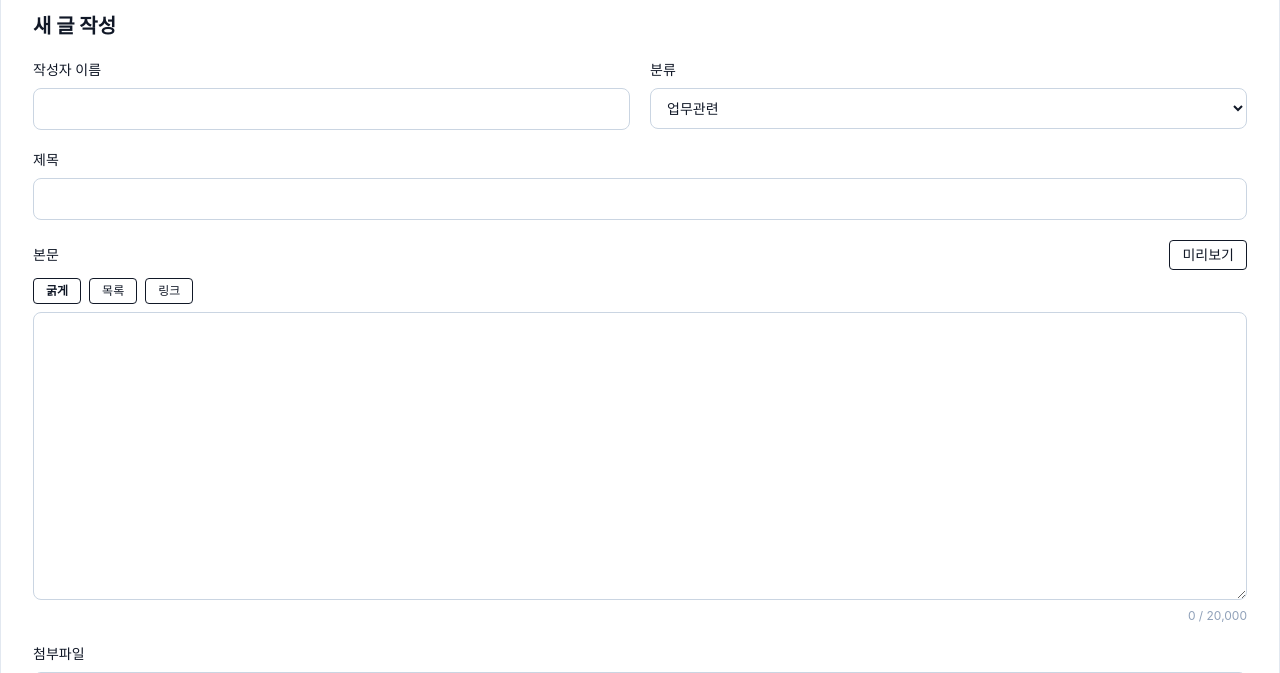
Scenario: board user workflows › saves a private draft with its password and offers a durable management link
Type "담당자" into the field labelled "작성자 이름" at (332,109), box [33, 88, 630, 130]
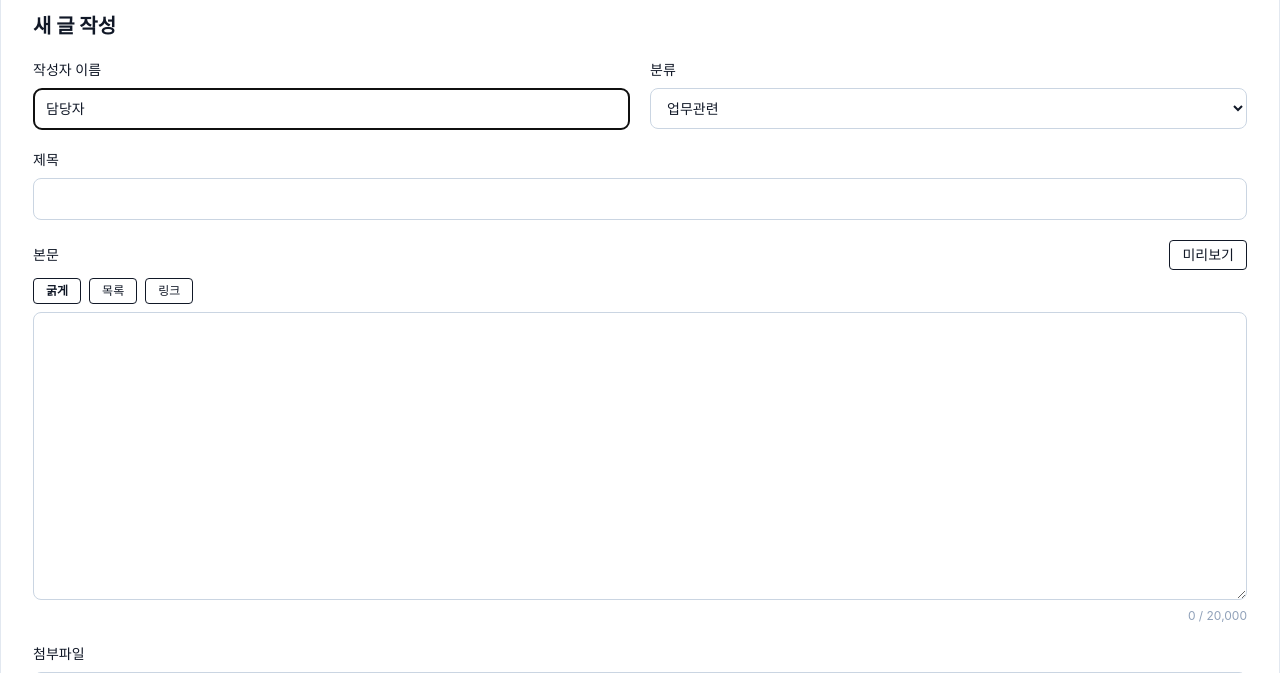
Type "자료 안내" into the field labelled "제목" at (640,199), box [33, 178, 1247, 220]
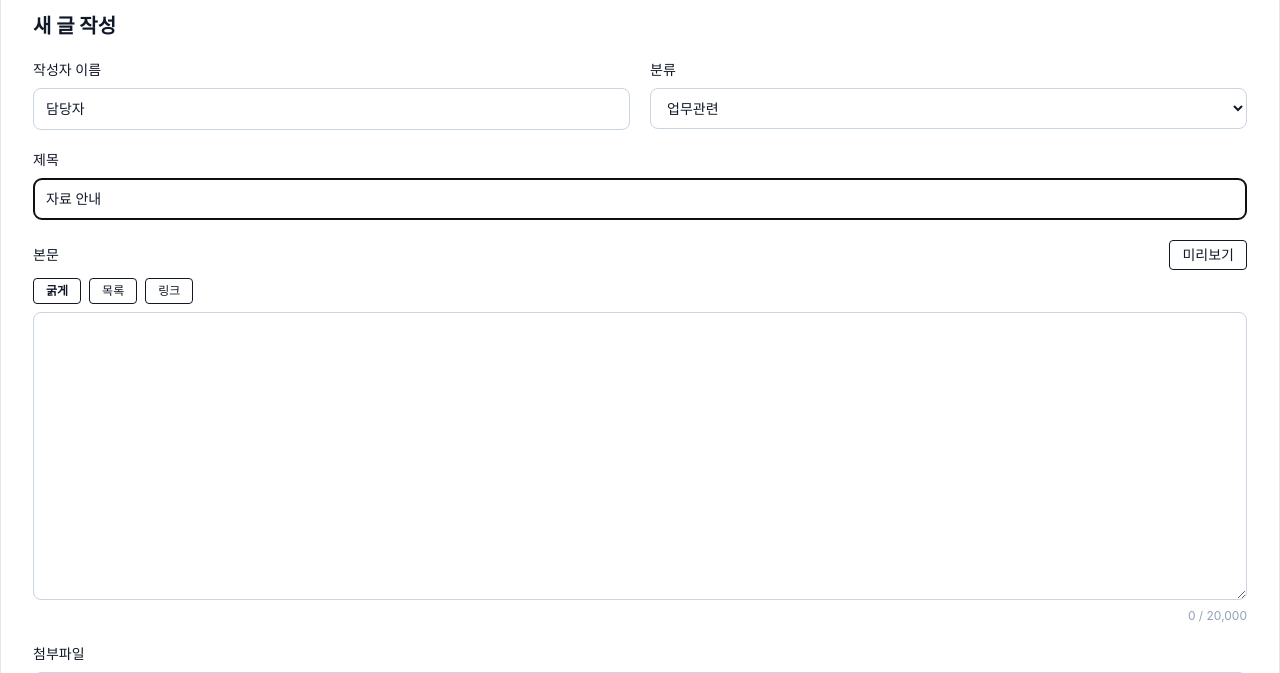
Type "본문 내용" into the text box named "본문" at (640,456), box [33, 312, 1247, 600]
(page scrolled)
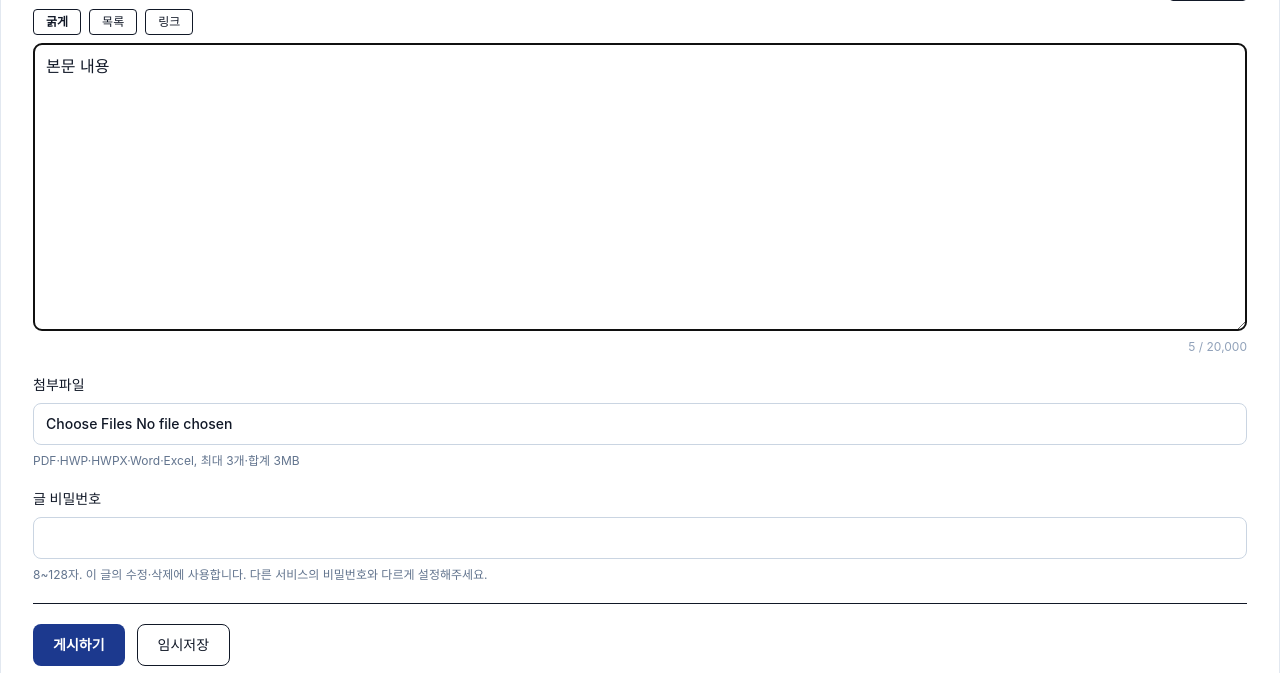
Type "new-test-password" into the password field labelled "글 비밀번호 8~128자. 이 글의 수정·삭제에 사용합니다. 다른 서비스의 비밀번호와 다르게 설정해주세요." at (640,538), box [33, 517, 1247, 559]
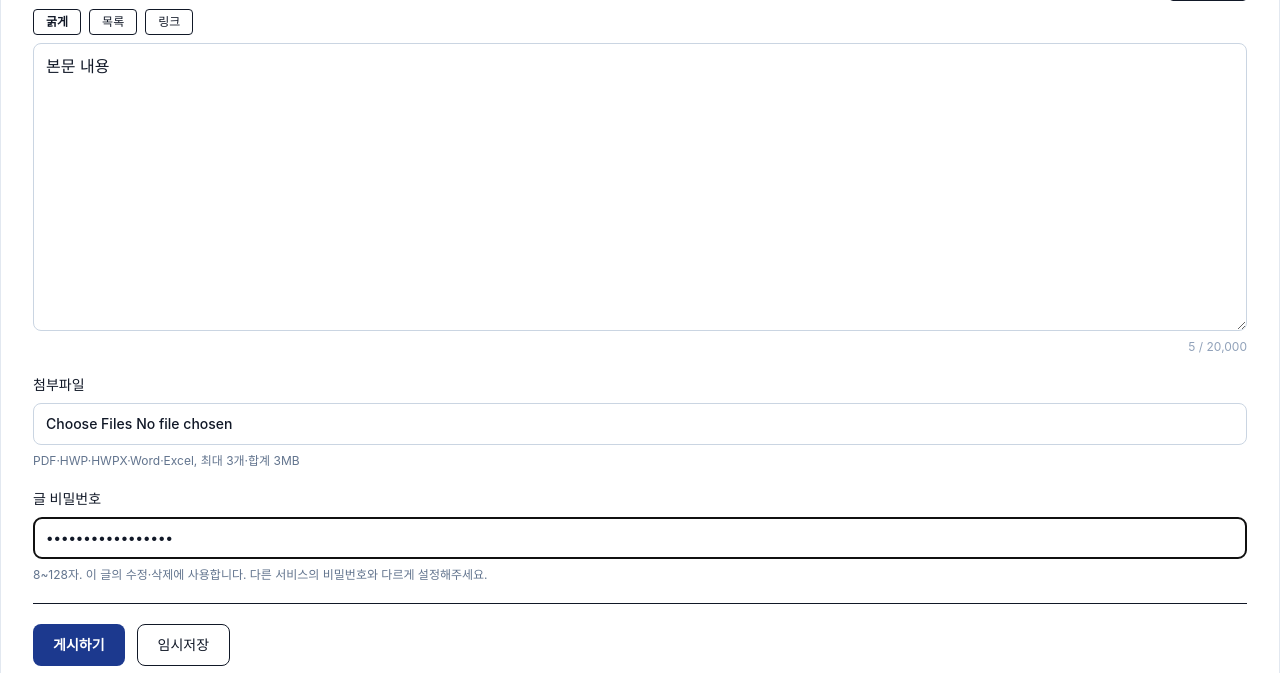
Click the button "임시저장" at (183,645), box [136, 624, 230, 666]
(page scrolled)
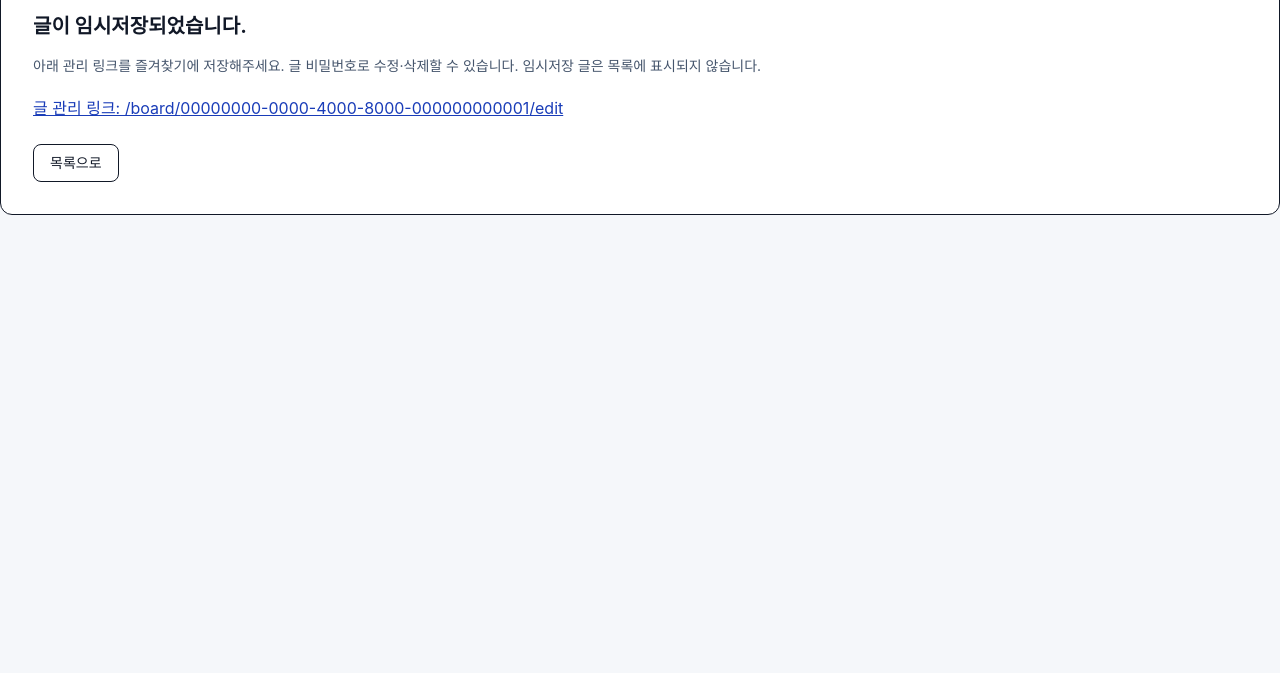
Result: the heading "글이 임시저장되었습니다." is shown at [33, 14, 247, 38]
